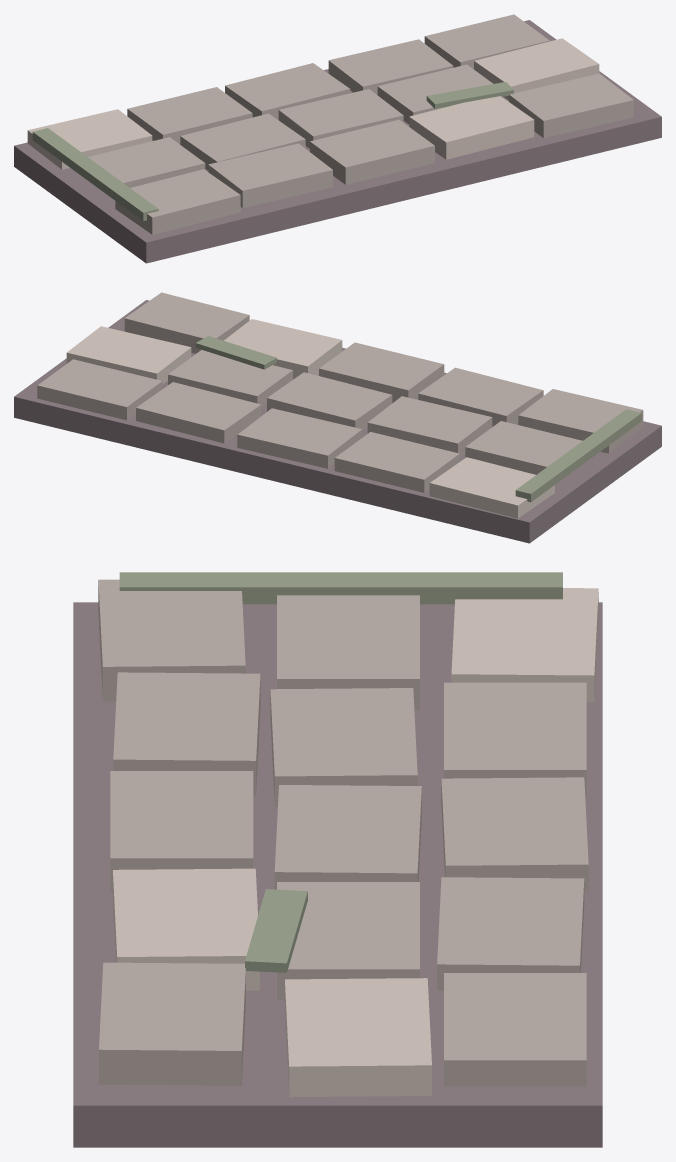
File: menu_road_tile.glb
3 views of the same model, one above another, from view 1: azimuth 30°, elevation 25°; view 2: azimuth 150°, elevation 25°; view 3: azimuth 270°, elevation 25° (orthographic). The views are drawn at different scales.
Parts seen in each view (by area): view 1: Moonpost Warm Causeway Tile; view 2: Moonpost Warm Causeway Tile; view 3: Moonpost Warm Causeway Tile.
Part boxes in pixels (box(x1,y1,x2,y2)): Moonpost Warm Causeway Tile: box(14, 14, 661, 263); Moonpost Warm Causeway Tile: box(14, 292, 661, 543); Moonpost Warm Causeway Tile: box(73, 572, 602, 1147).
Size of the model in its own units: 9 by 0.7 by 4.
